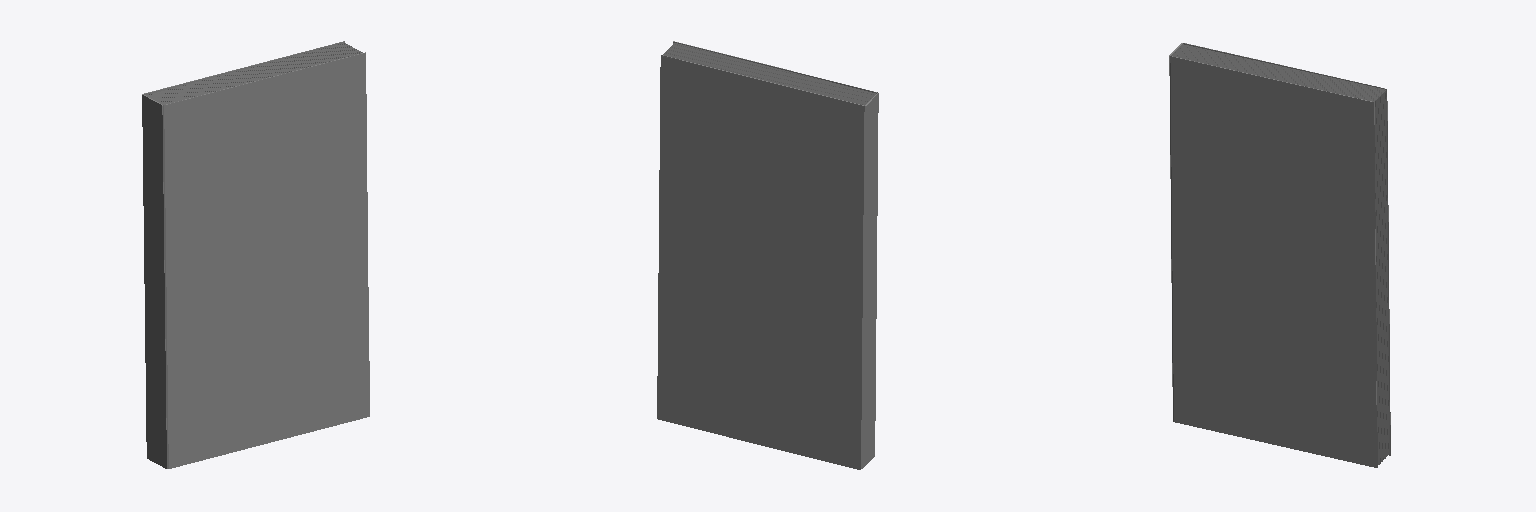
Rendered from book.obj.
3 renders of one model, left to right at view 1: azimuth 30°, elevation 25°; view 2: azimuth 150°, elevation 25°; view 3: azimuth 330°, elevation 25°, orthographic.
Parts seen in each view (by area): view 1: Object002, Box002, Object001; view 2: Object003, Box002, Object001; view 3: Object002, Object001, Box002.
Part boxes in pixels (bbox=[...]): Object002: bbox=[163, 52, 369, 468]; Box002: bbox=[142, 41, 369, 468]; Object001: bbox=[146, 42, 362, 104]; Object003: bbox=[657, 56, 864, 469]; Box002: bbox=[661, 42, 878, 468]; Object001: bbox=[662, 43, 875, 105]; Object002: bbox=[1170, 56, 1376, 467]; Object001: bbox=[1172, 44, 1389, 464]; Box002: bbox=[1169, 43, 1390, 467].
Bounding box in the file's own units: 7.68 × 12.75 × 1.19.